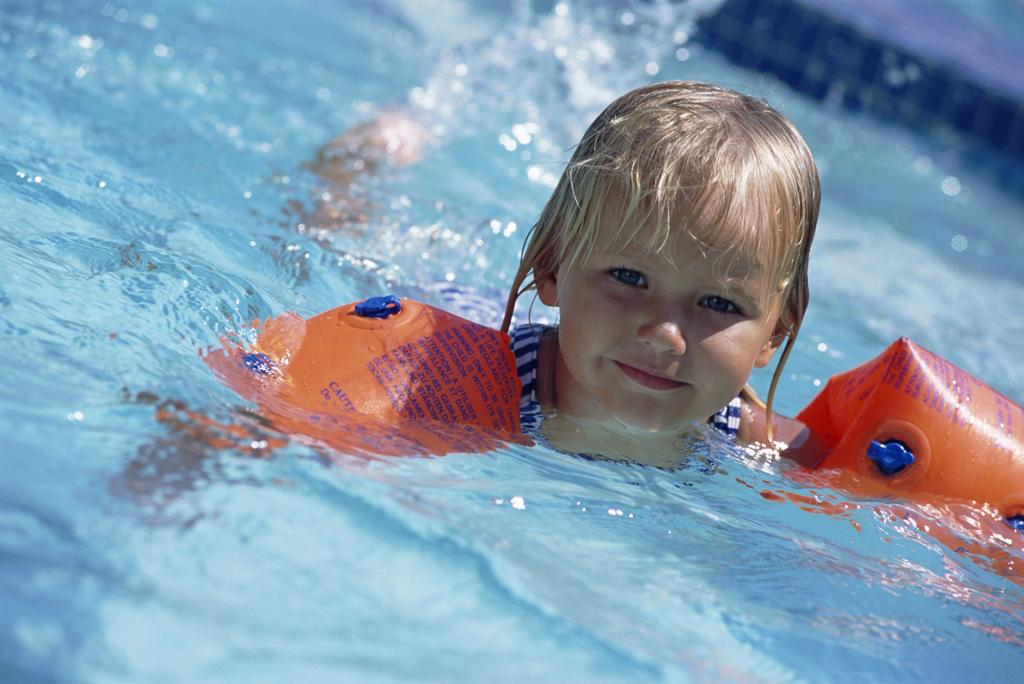face: (548, 192, 786, 428)
